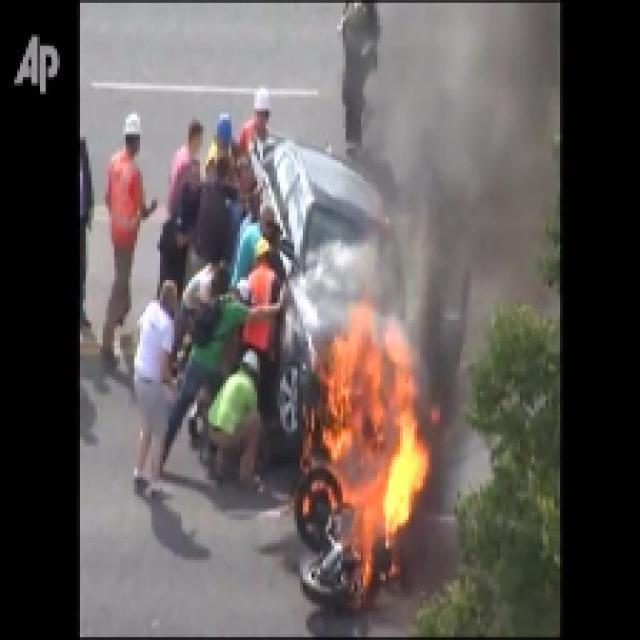Fire: (341, 332, 418, 566)
Smoke: (409, 0, 547, 305)
